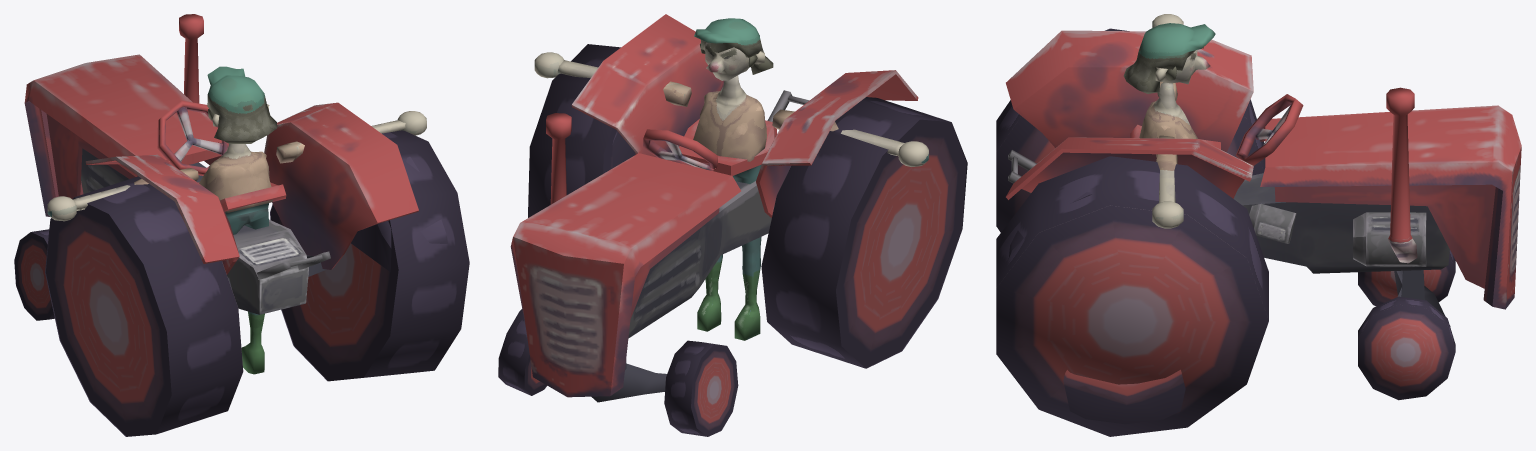
File: Portagoniste.glb
3 renders of one model, left to right at view 1: azimuth 30°, elevation 25°; view 2: azimuth 150°, elevation 25°; view 3: azimuth 270°, elevation 25°, orthographic. The views are drawn at different scales.
Parts seen in each view (by area): view 1: RoueLow, Plaque, Corp, Chassi; view 2: RoueLow, Plaque, Corp, Chassi; view 3: RoueLow, Plaque, Chassi, Corp.
Part boxes in pixels (box(x1,y1,x2,y2)): RoueLow: box(14, 130, 469, 436); Plaque: box(24, 14, 418, 274); Corp: box(47, 66, 426, 374); Chassi: box(81, 100, 336, 314); RoueLow: box(498, 44, 967, 436); Plaque: box(510, 14, 918, 397); Corp: box(534, 18, 928, 340); Chassi: box(591, 90, 809, 402); RoueLow: box(996, 28, 1455, 436); Plaque: box(1006, 30, 1521, 309); Chassi: box(1008, 94, 1450, 326); Corp: box(1123, 14, 1215, 228).
Size of the model in its own units: 1.13 by 0.8849 by 1.25.
4 materials, 4 textured.
